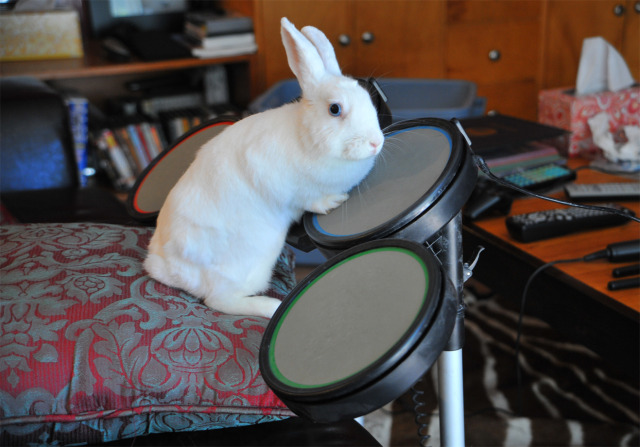bunny: (126, 16, 408, 327)
